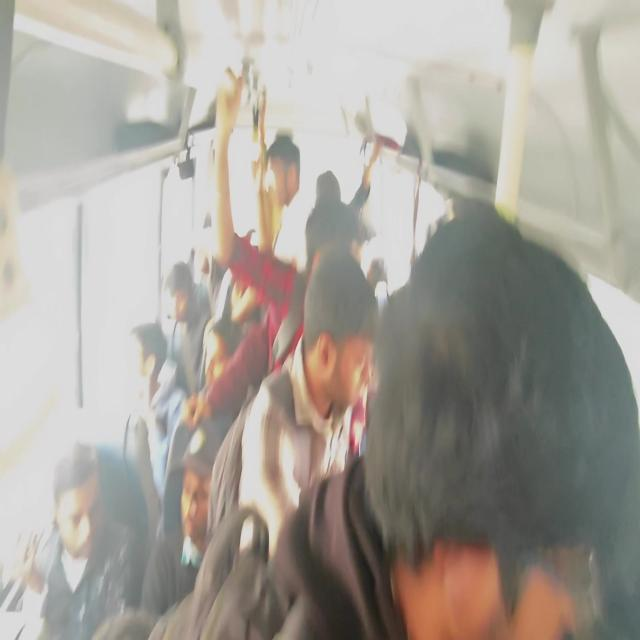person: (13, 65, 638, 638), (271, 203, 639, 638), (186, 66, 384, 427), (205, 245, 380, 564), (23, 440, 149, 638), (140, 420, 224, 619), (164, 260, 213, 395)
